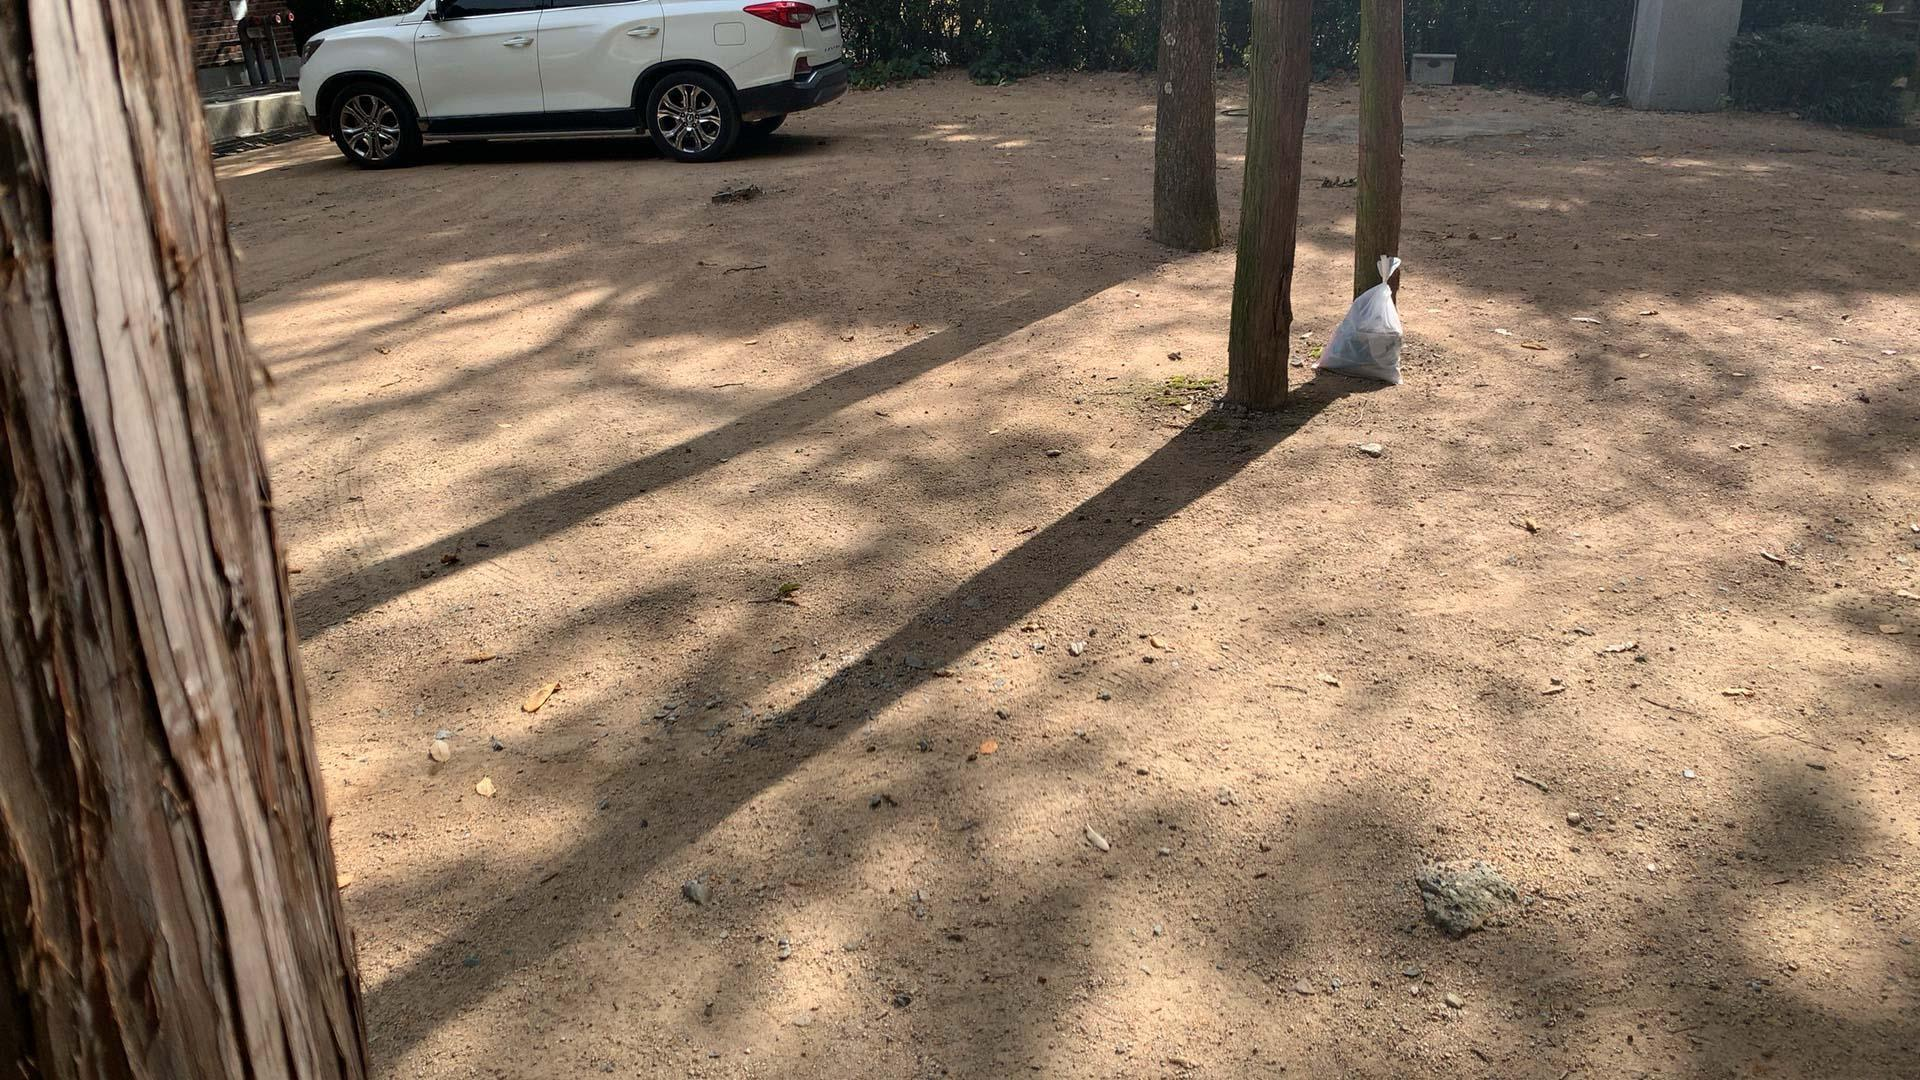white_bag: (1303, 251, 1412, 389)
